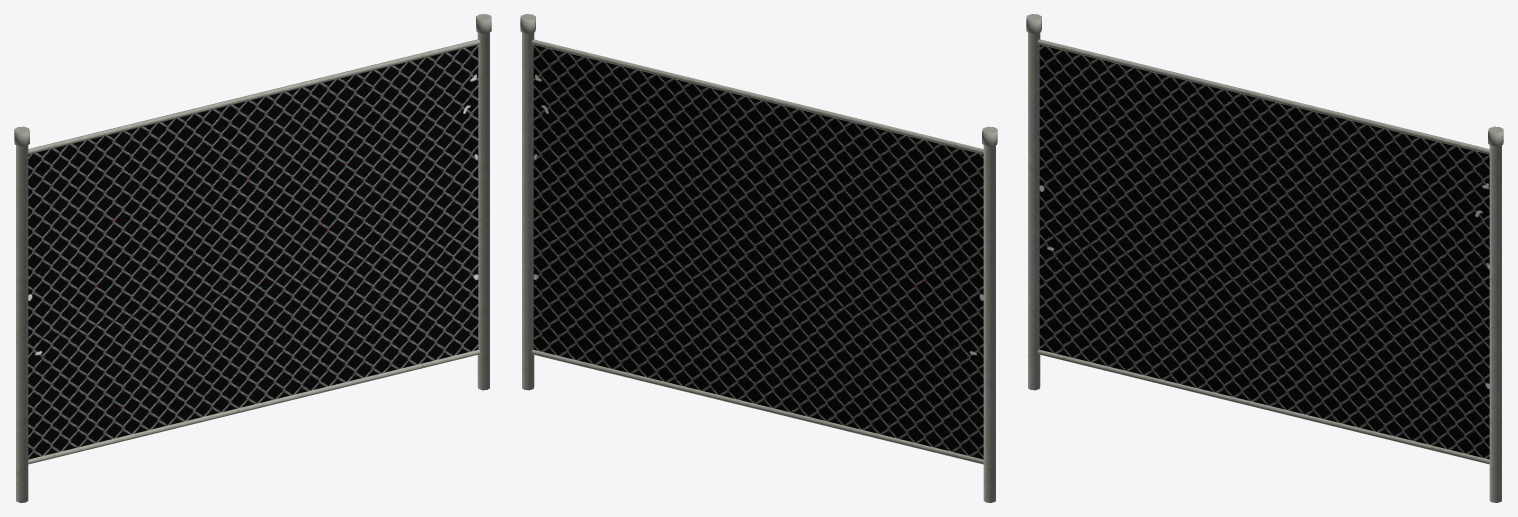
The model's file is Fence.glb.
3 renders of one model, left to right at view 1: azimuth 30°, elevation 25°; view 2: azimuth 150°, elevation 25°; view 3: azimuth 330°, elevation 25°, orthographic.
Visible parts, largest first — view 1: fence; view 2: fence; view 3: fence.
Boxes of the visible parts, <box> form: fence: <box>14,14,491,502</box>; fence: <box>520,14,997,502</box>; fence: <box>1026,14,1503,502</box>.
Size of the model in its own units: 7.94 by 5.9 by 0.2334.
2 materials, 2 textured.
